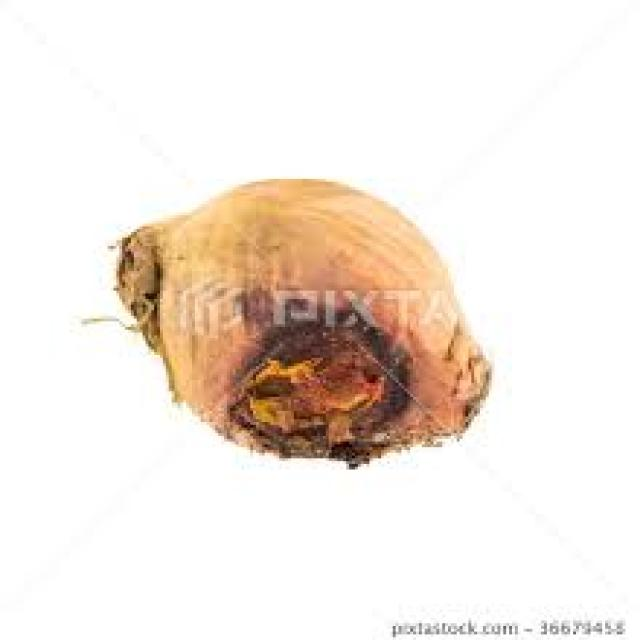rotten: (120, 173, 513, 459)
